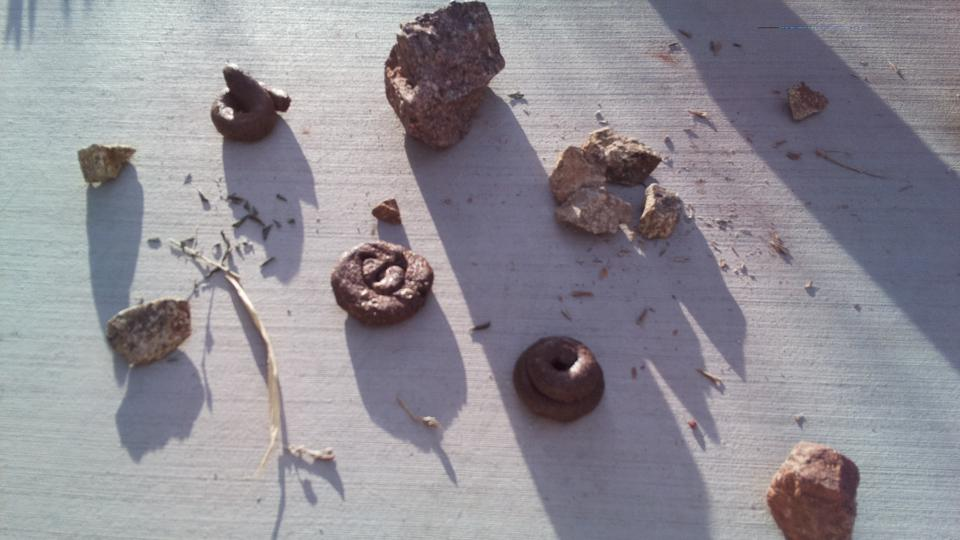poop: (327, 239, 437, 328), (510, 332, 607, 427), (209, 61, 295, 147)
